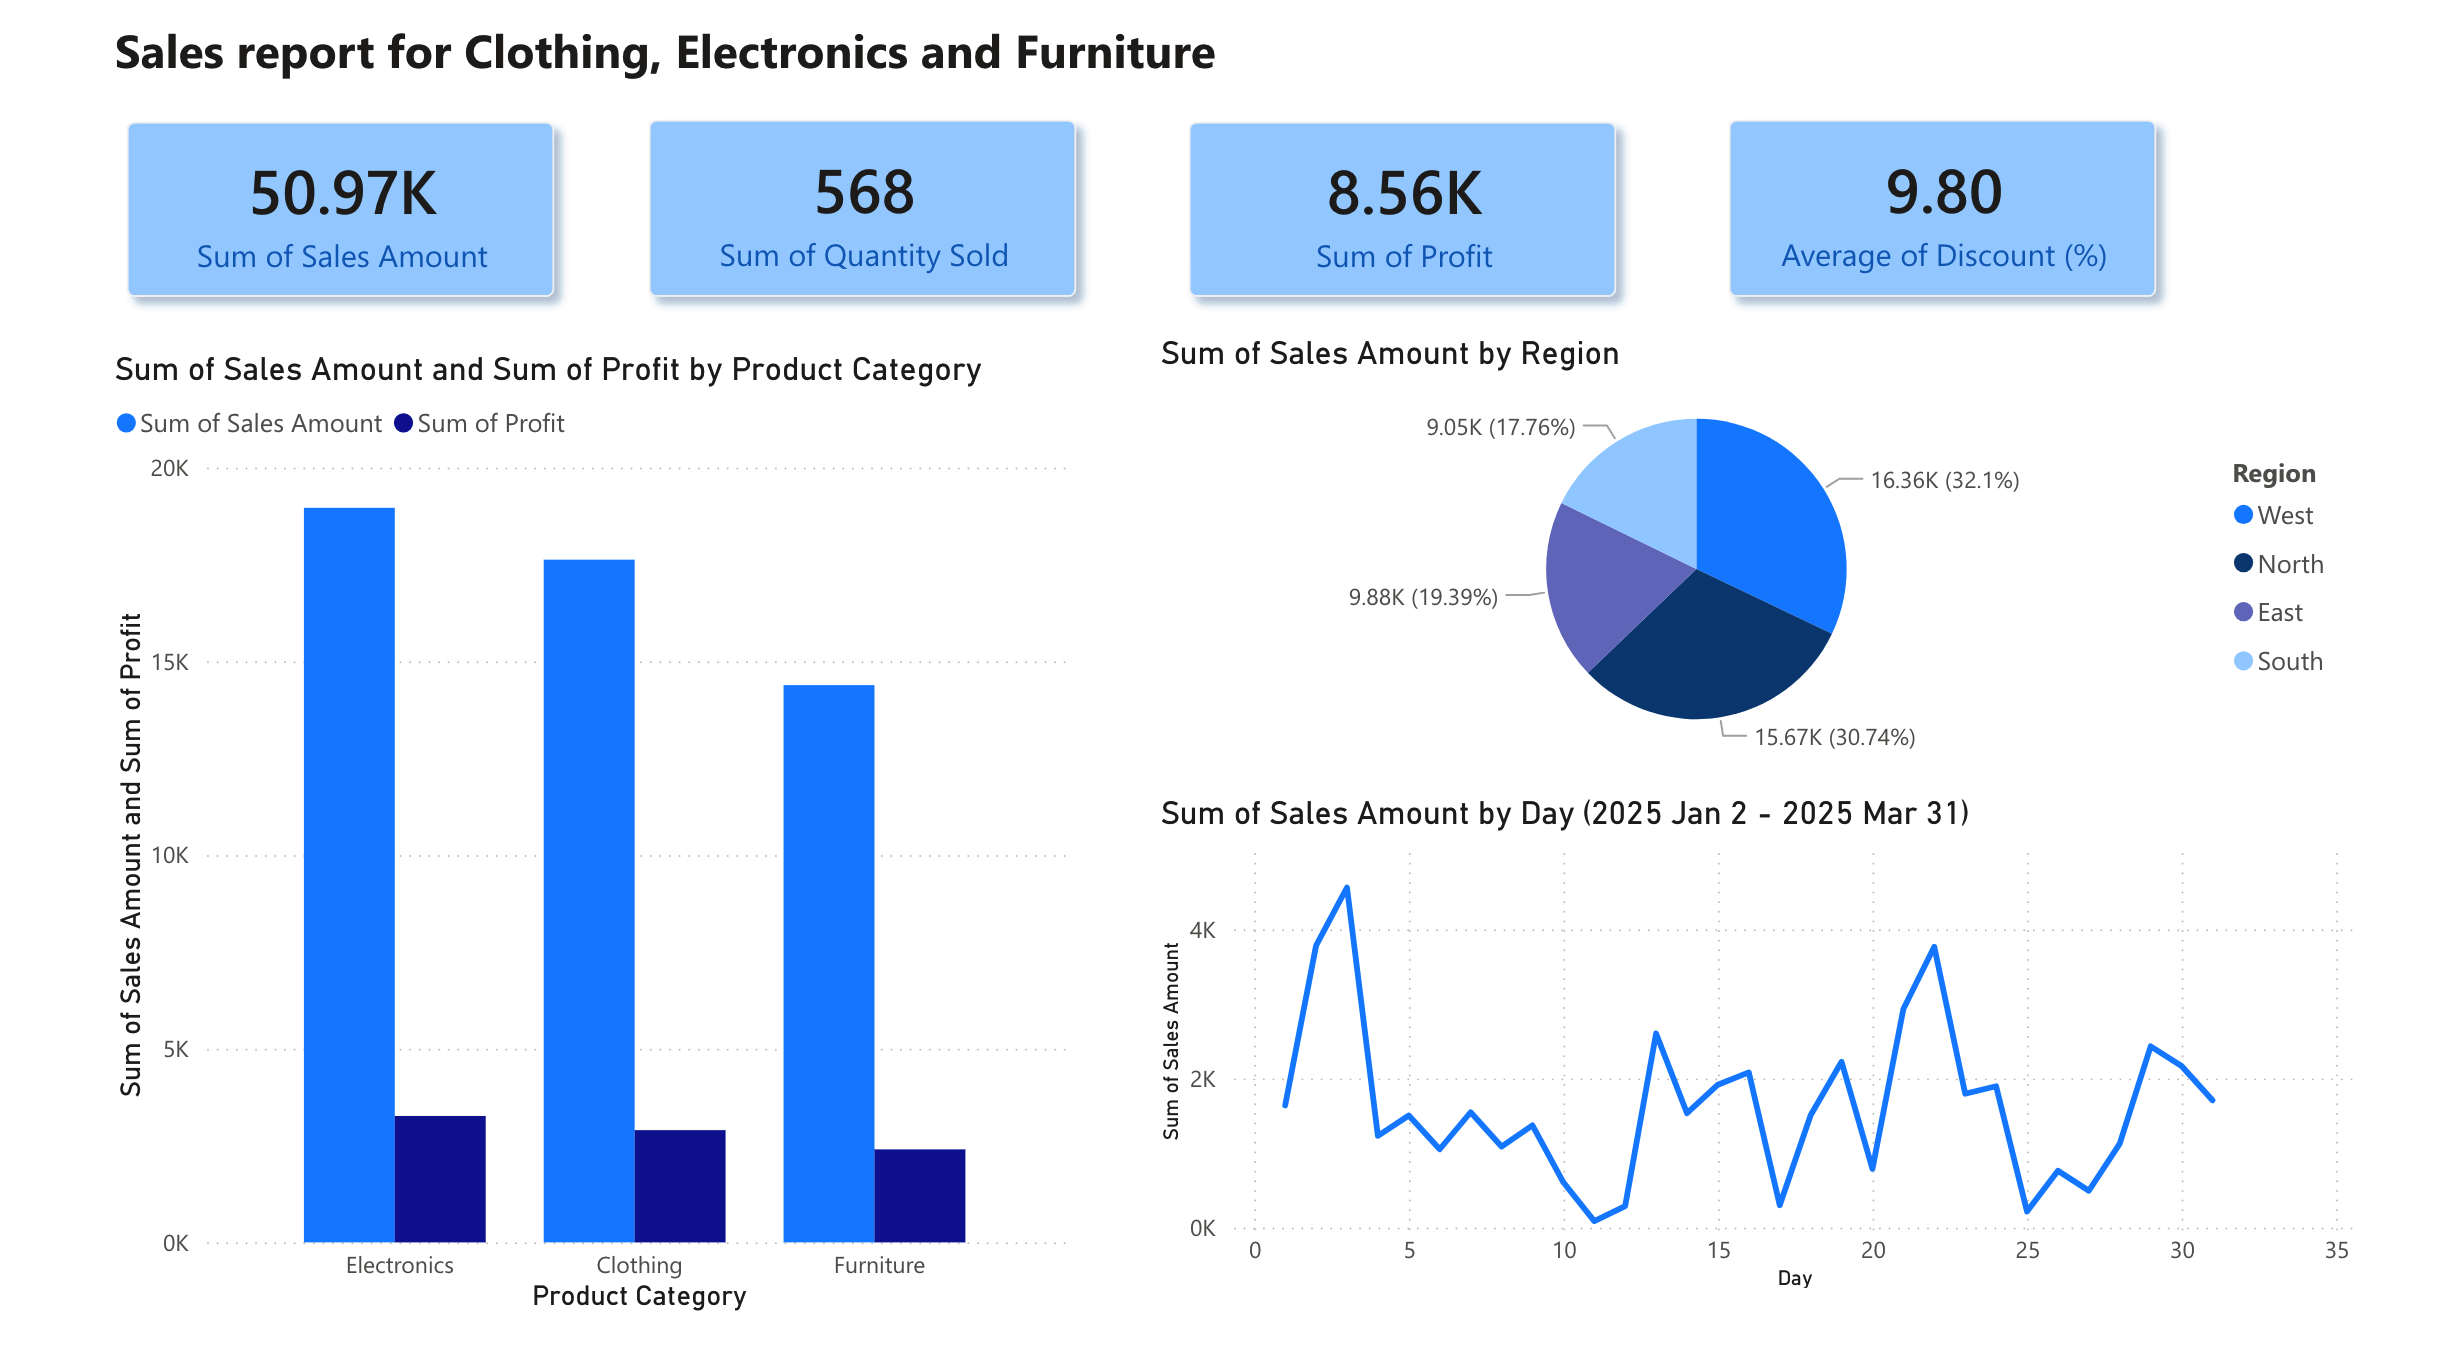

The dashboard page shown, as its layout file describes it:
{"tool":"powerbi","page":{"name":"Page 1","canvas":[1280,720],"ordinal":0},"visuals":[{"type":"cardVisual","fields":{"Data":["Sum(Sheet1.Sales Amount)"]},"box":[39.5,39.5,280.5,149.6],"z":0},{"type":"cardVisual","fields":{"Data":["Sum(Sheet1.Profit)"]},"box":[591.2,39.5,280.5,149.6],"z":1000},{"type":"cardVisual","fields":{"Data":["Sum(Sheet1.Quantity Sold)"]},"box":[310.6,38.4,280.5,150.6],"z":2000},{"type":"cardVisual","fields":{"Data":["Avg(Sheet1.Discount (%))"]},"box":[871.7,38.4,280.5,150.6],"z":3000},{"type":"clusteredColumnChart","fields":{"Category":["Sheet1.Product Category"],"Y":["Sum(Sheet1.Sales Amount)","Sum(Sheet1.Profit)"]},"box":[57.1,189.1,507,501.8],"z":4000},{"type":"lineChart","title":"Sum of Sales Amount by Day (2025 Jan 2 - 2025 Mar 31)","fields":{"Category":["Sheet1.Order Date.Variation.Date Hierarchy.Year","Sheet1.Order Date.Variation.Date Hierarchy.Quarter","Sheet1.Order Date.Variation.Date Hierarchy.Month","Sheet1.Order Date.Variation.Date Hierarchy.Day"],"Y":["Sum(Sheet1.Sales Amount)"]},"box":[600.5,419.7,630.6,259.7],"z":5000},{"type":"pieChart","fields":{"Y":["Sum(Sheet1.Sales Amount)"],"Category":["Sheet1.Region"]},"box":[600.5,180.8,630.6,224.4],"z":6000},{"type":"textbox","box":[57.1,9.4,975.6,47.8],"z":6001}]}

Visuals, with their boxes in screenshot pixels (x1, y1, x2, y2), scaled from the page's 1280x720 canvas onto the 2454x1372 screenshot:
cardVisual - Sum(Sheet1.Sales Amount): <box>76,75,614,360</box>
cardVisual - Sum(Sheet1.Profit): <box>1133,75,1671,360</box>
cardVisual - Sum(Sheet1.Quantity Sold): <box>595,73,1133,360</box>
cardVisual - Avg(Sheet1.Discount (%)): <box>1671,73,2209,360</box>
clusteredColumnChart - Sheet1.Product Category x Sum(Sheet1.Sales Amount): <box>109,360,1081,1317</box>
"Sum of Sales Amount by Day (2025 Jan 2 - 2025 Mar 31)" lineChart: <box>1151,800,2360,1295</box>
pieChart - Sum(Sheet1.Sales Amount) x Sheet1.Region: <box>1151,345,2360,772</box>
textbox: <box>109,18,1980,109</box>
